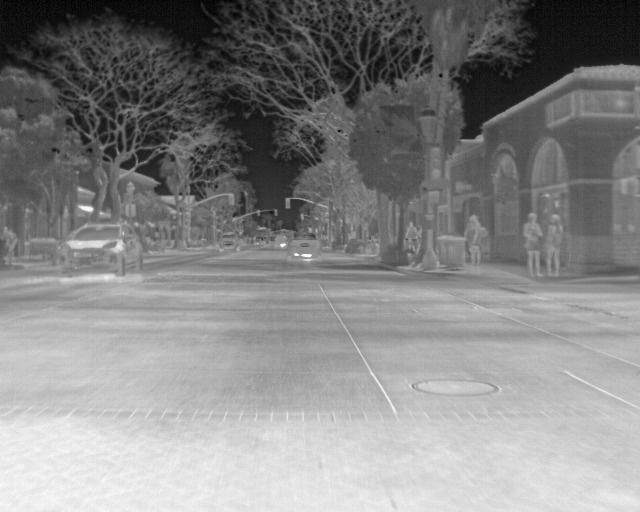bicycle: (58, 224, 141, 278), (289, 228, 322, 261), (217, 230, 243, 252), (273, 233, 292, 251)
empty: (521, 211, 545, 276), (540, 209, 563, 276), (465, 213, 486, 264), (402, 221, 418, 252)
